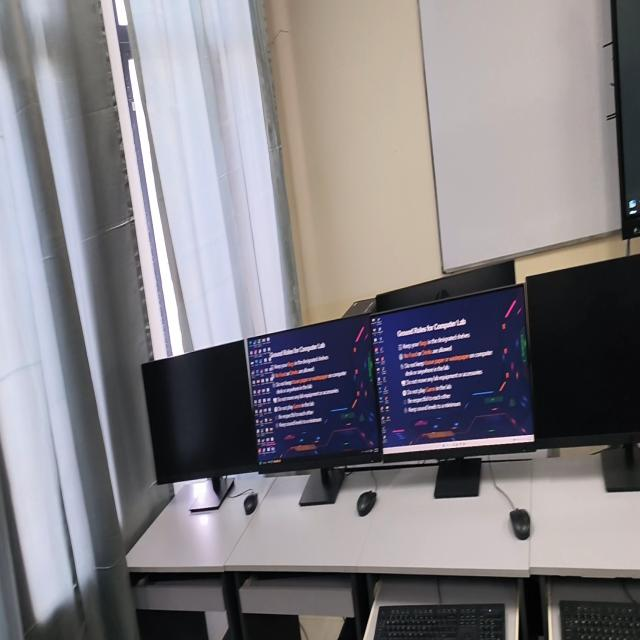Cpu: (342, 298, 376, 317)
Digital board: (611, 0, 640, 240)
Keyboard: (374, 604, 505, 639), (560, 601, 640, 639)
Monitor: (371, 285, 534, 498), (525, 254, 640, 491), (247, 318, 381, 505), (142, 340, 259, 513), (376, 260, 515, 312)
Mouse: (510, 508, 530, 540), (357, 490, 376, 516), (244, 492, 258, 515)
